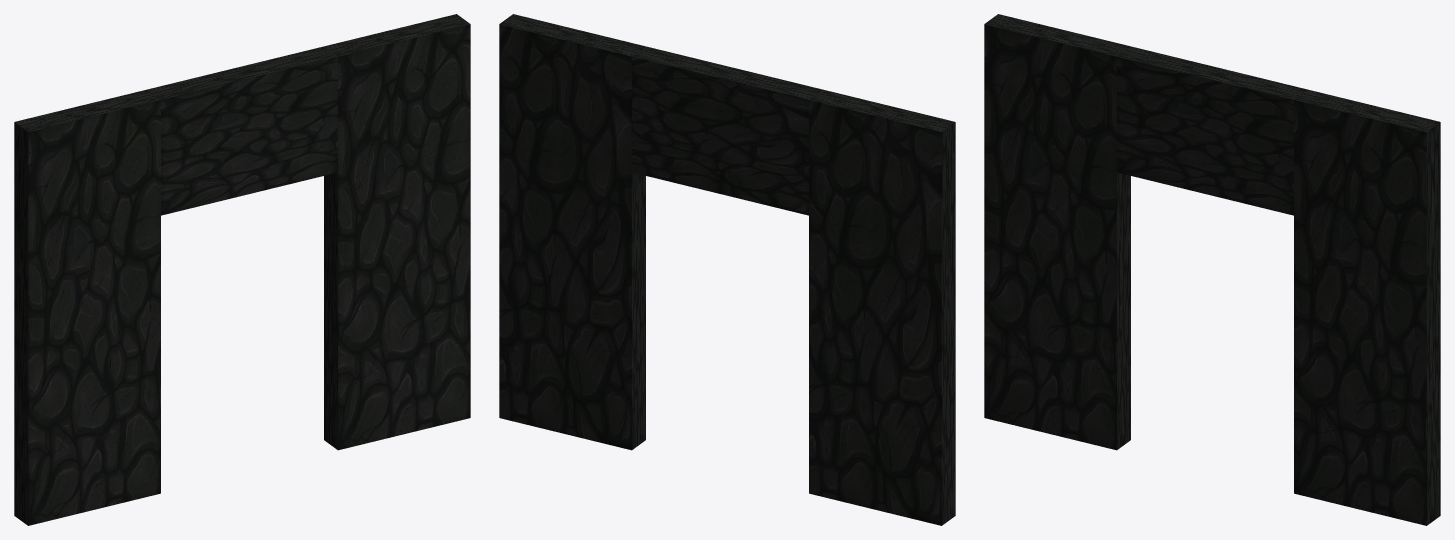
File: stone_wall_door_4m.glb
3 views of the same model, side by side, from view 1: azimuth 30°, elevation 25°; view 2: azimuth 150°, elevation 25°; view 3: azimuth 330°, elevation 25° (orthographic).
Visible parts, largest first — view 1: stone_wall_door_4m, _MeshInstance3D_2550, _MeshInstance3D_2553; view 2: stone_wall_door_4m, _MeshInstance3D_2550, _MeshInstance3D_2553; view 3: _MeshInstance3D_2550, stone_wall_door_4m, _MeshInstance3D_2553.
Boxes of the visible parts, bbox=[...] form: stone_wall_door_4m: bbox=[14, 89, 160, 525]; _MeshInstance3D_2550: bbox=[324, 14, 470, 450]; _MeshInstance3D_2553: bbox=[147, 46, 337, 215]; stone_wall_door_4m: bbox=[809, 89, 955, 525]; _MeshInstance3D_2550: bbox=[499, 14, 645, 450]; _MeshInstance3D_2553: bbox=[632, 46, 822, 215]; _MeshInstance3D_2550: bbox=[1294, 89, 1440, 525]; stone_wall_door_4m: bbox=[984, 14, 1130, 450]; _MeshInstance3D_2553: bbox=[1117, 46, 1307, 215].
Size of the model in its own units: 4 by 3.4 by 0.22.
1 material, 1 textured.
